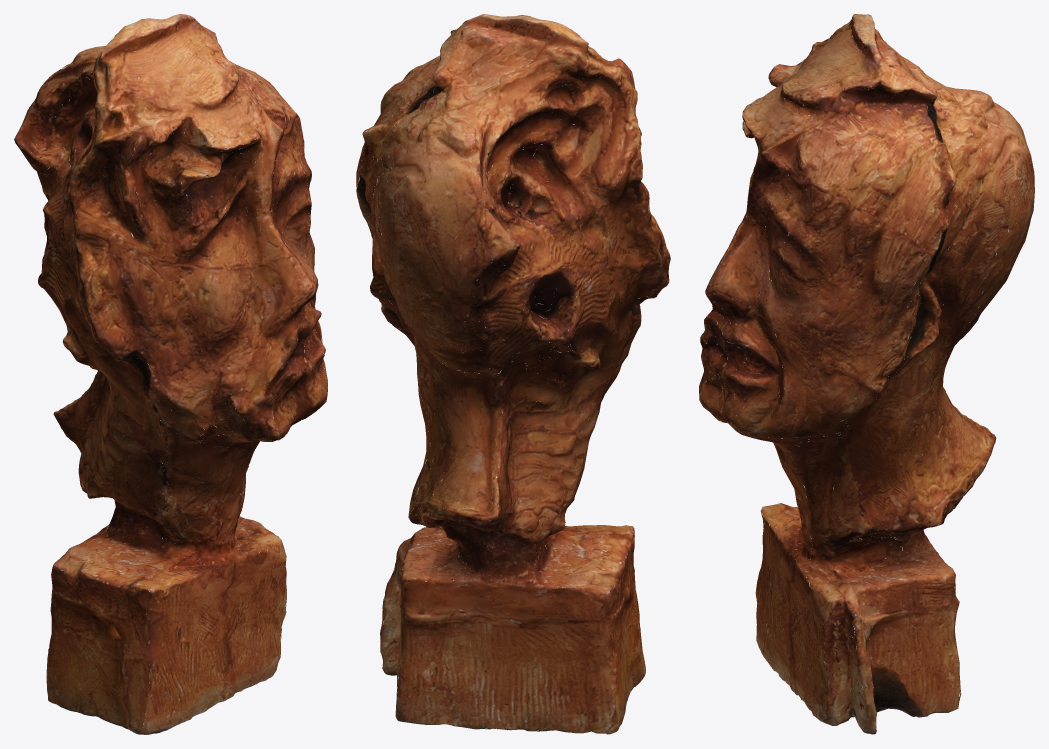
File: 22_ufan.glb
3 renders of one model, left to right at view 1: azimuth 30°, elevation 25°; view 2: azimuth 150°, elevation 25°; view 3: azimuth 270°, elevation 25°, orthographic. The views are drawn at different scales.
Visible parts, largest first — view 1: Mesh_0_Part_0; view 2: Mesh_0_Part_0; view 3: Mesh_0_Part_0.
Part boxes in pixels (bbox=[...]): Mesh_0_Part_0: bbox=[14, 14, 327, 734]; Mesh_0_Part_0: bbox=[356, 14, 670, 734]; Mesh_0_Part_0: bbox=[699, 14, 1034, 734].
Size of the model in its own units: 1.37 by 3.59 by 1.68.
Materials: 1 (1 with a texture image).
